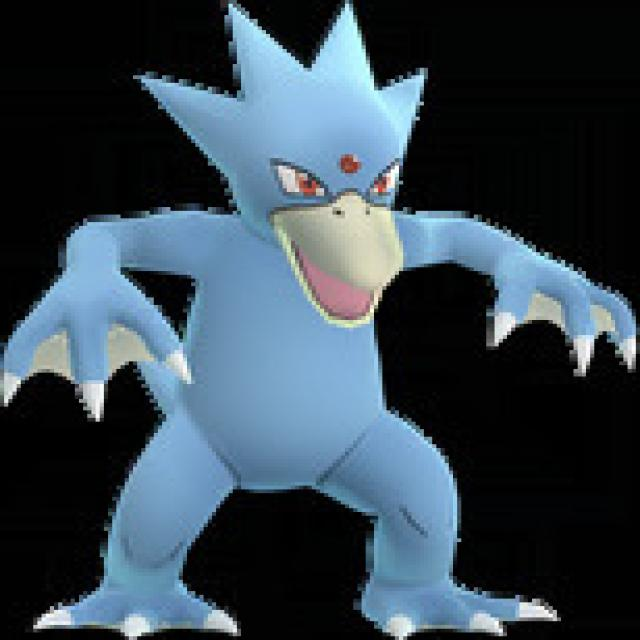Golduck: (80, 9, 552, 630)
